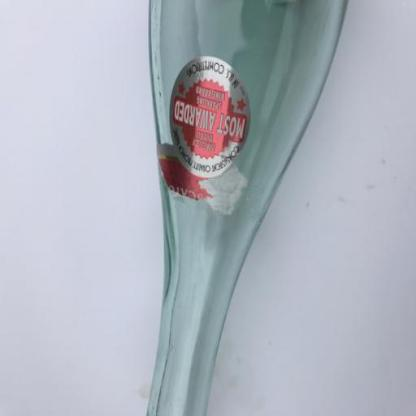trash: (147, 0, 351, 416)
